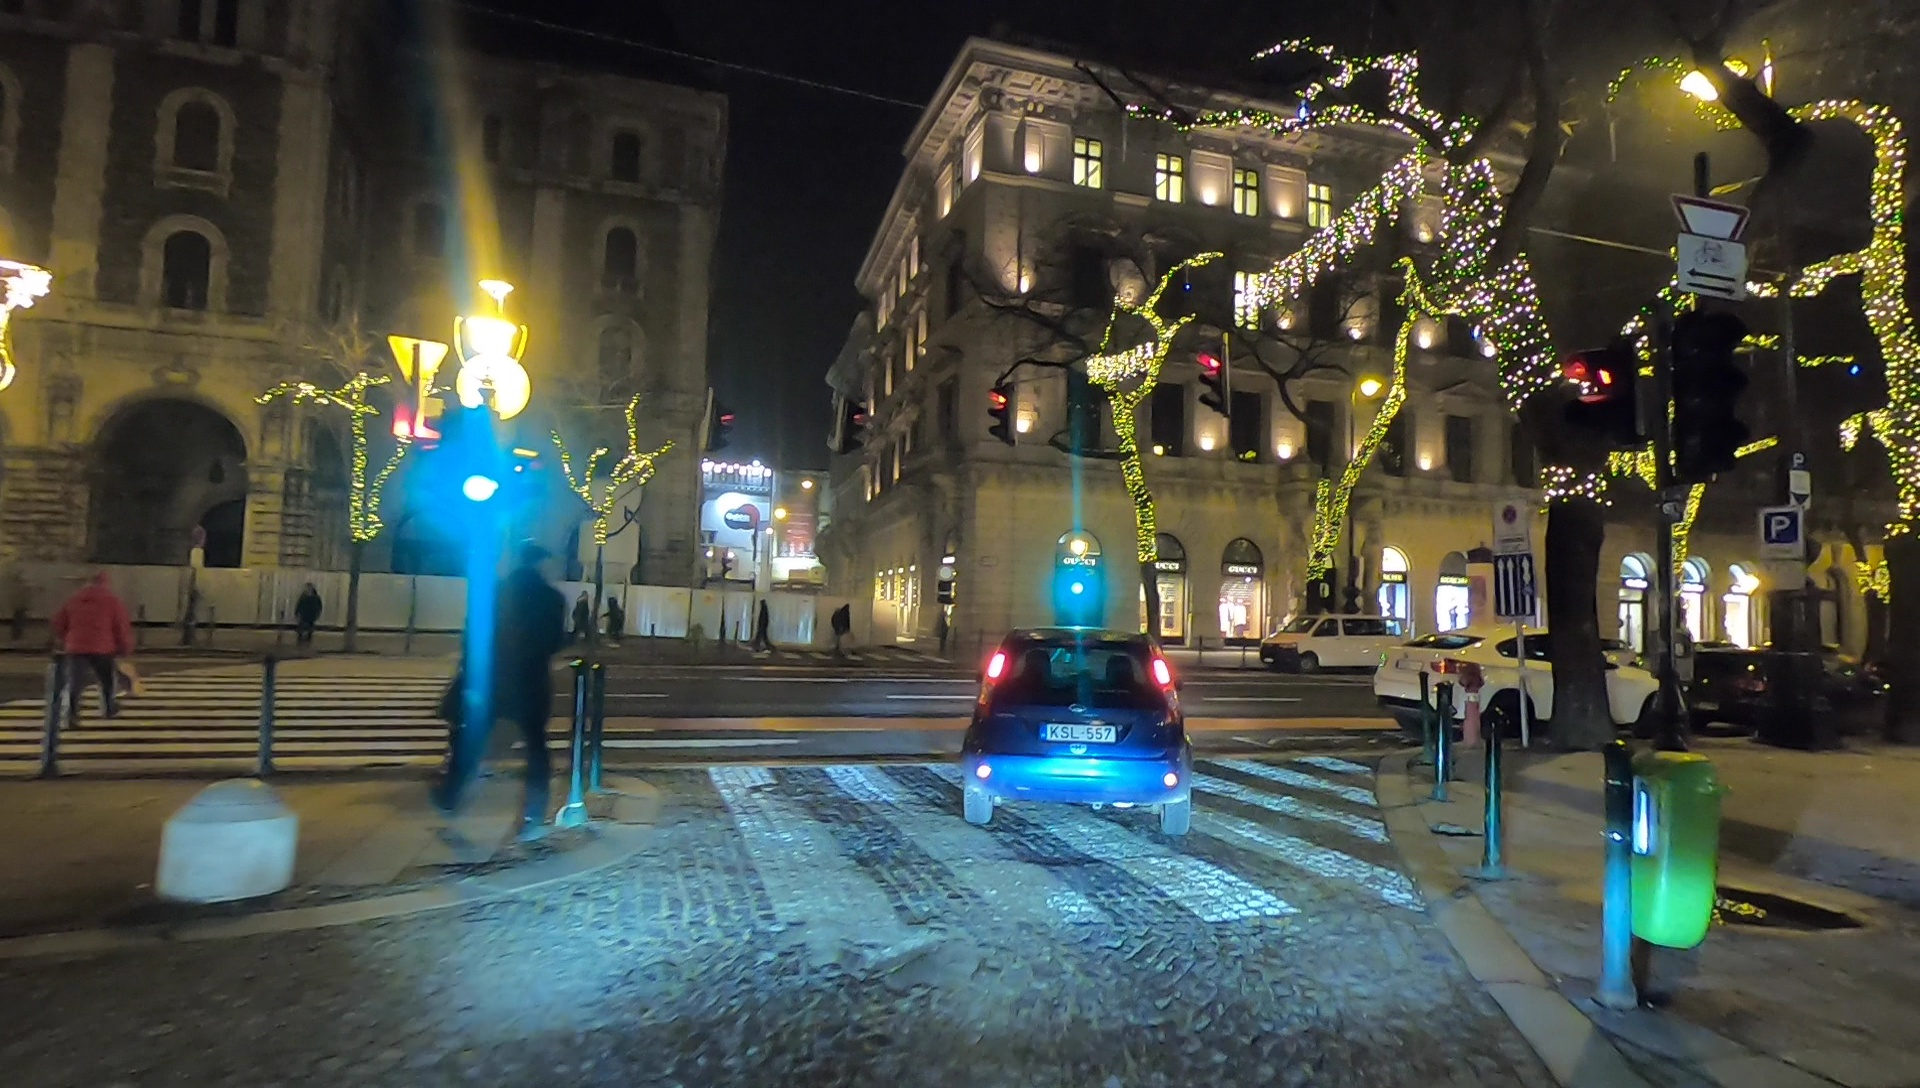person: (438, 537, 564, 850), (53, 572, 139, 722), (293, 579, 323, 645), (571, 589, 593, 647), (749, 597, 772, 650), (829, 599, 850, 654), (600, 594, 623, 645)
